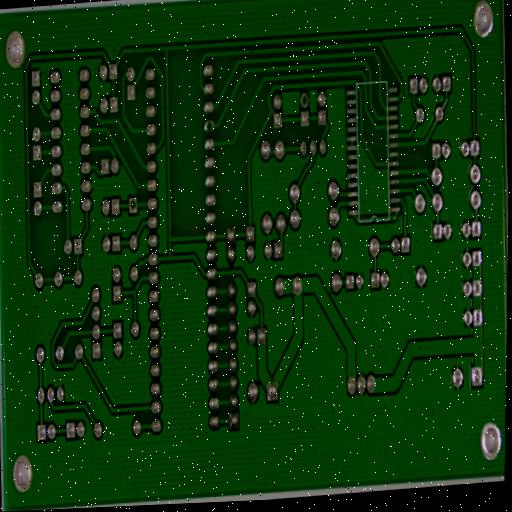missing_hole: (127, 193, 139, 216), (299, 91, 310, 110), (203, 116, 214, 133)
